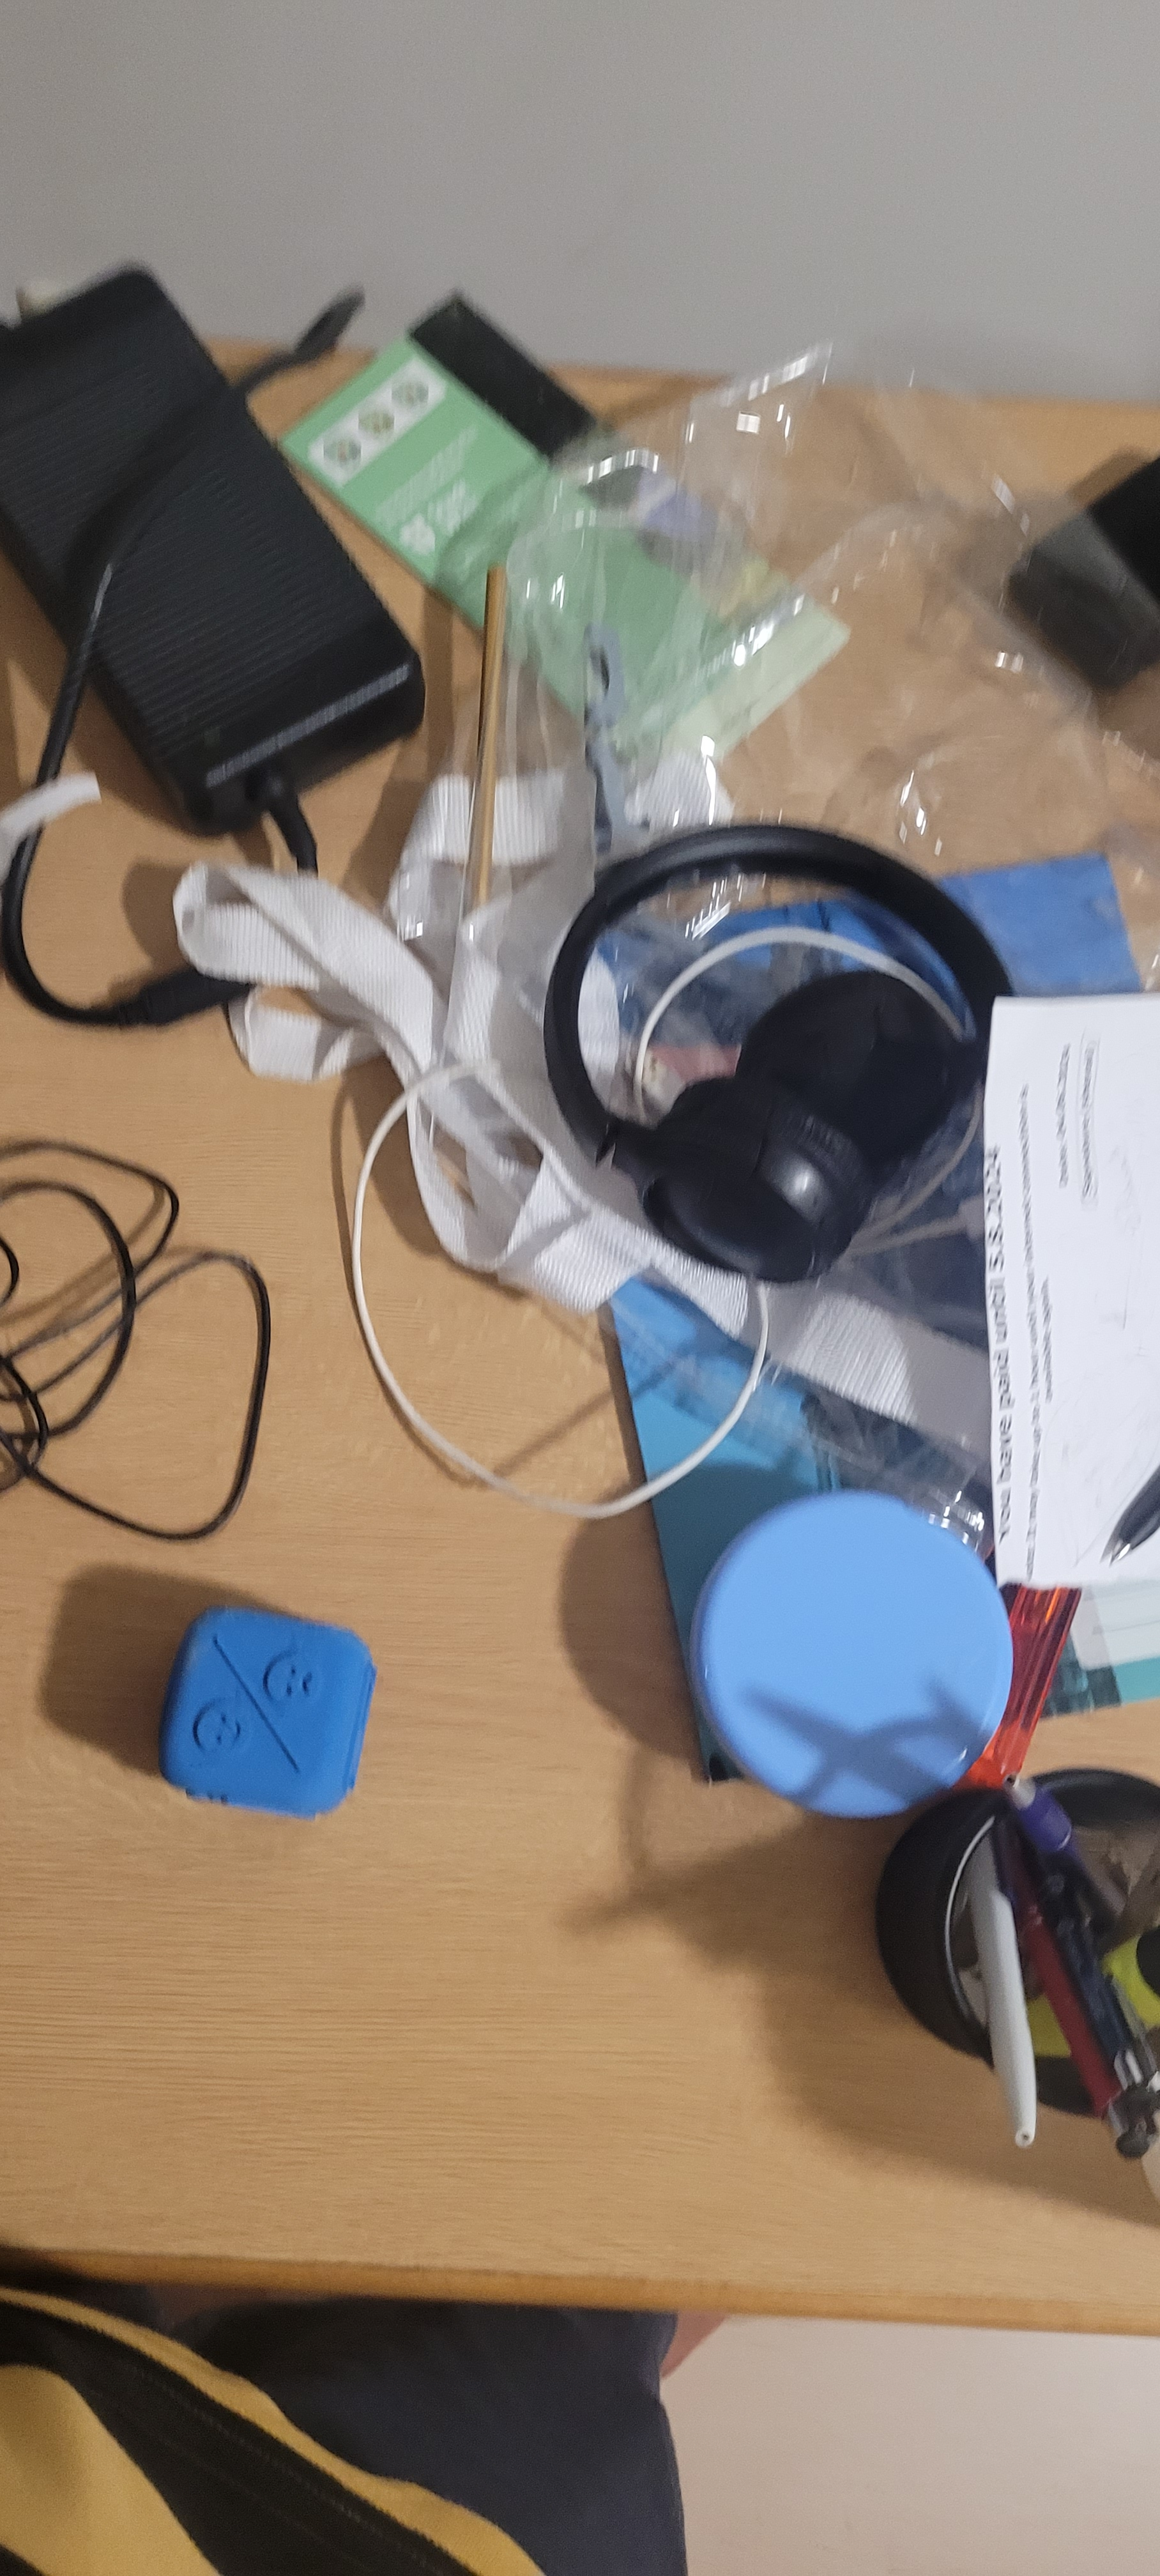Like/Dislike: (187, 1595, 366, 1791)
